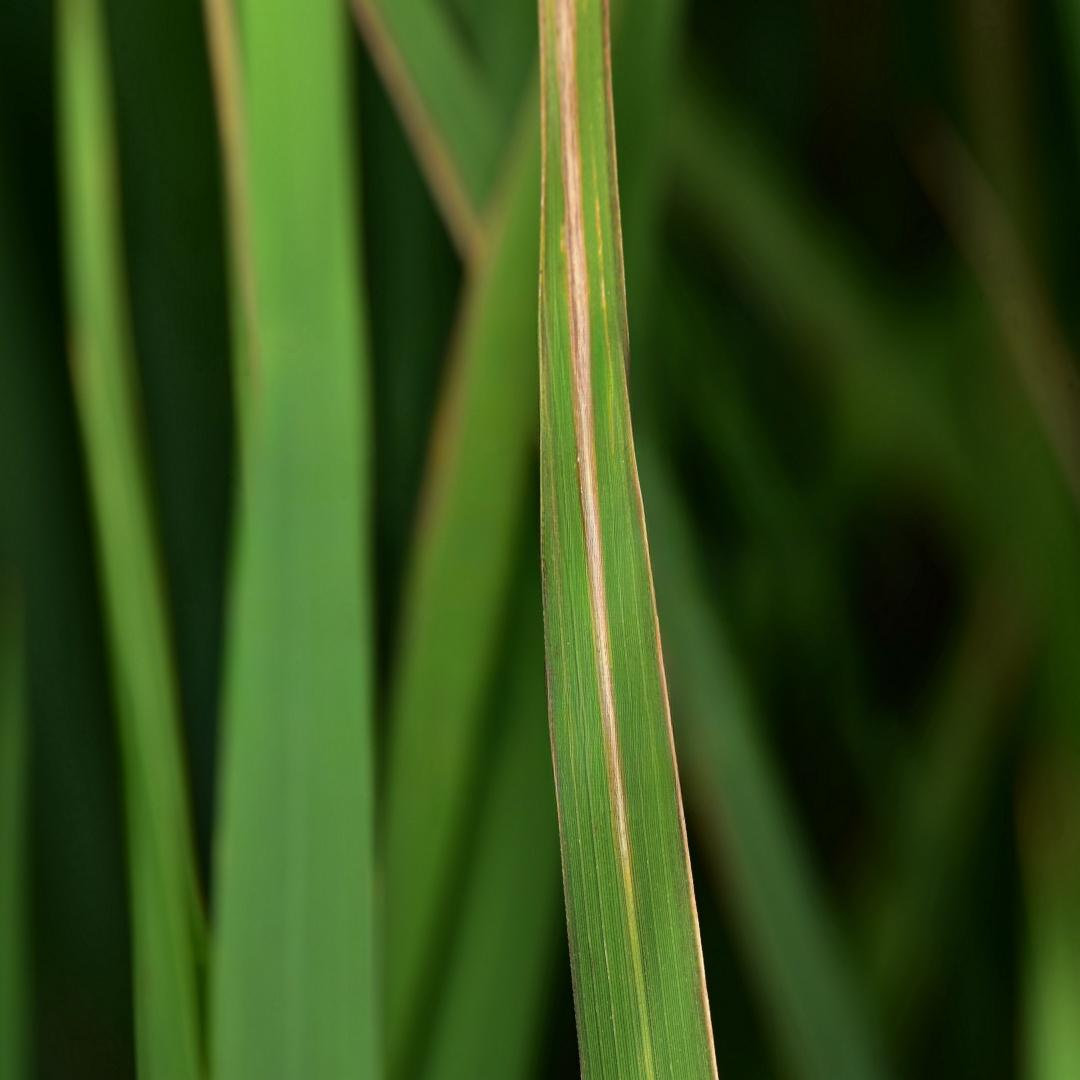BLB: (552, 0, 633, 891)
LEAF: (538, 0, 718, 1079)
